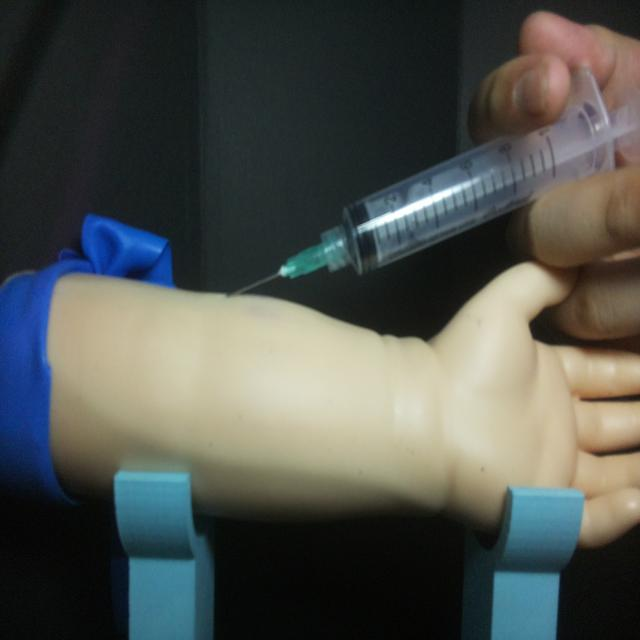20deg: (223, 62, 633, 301)
